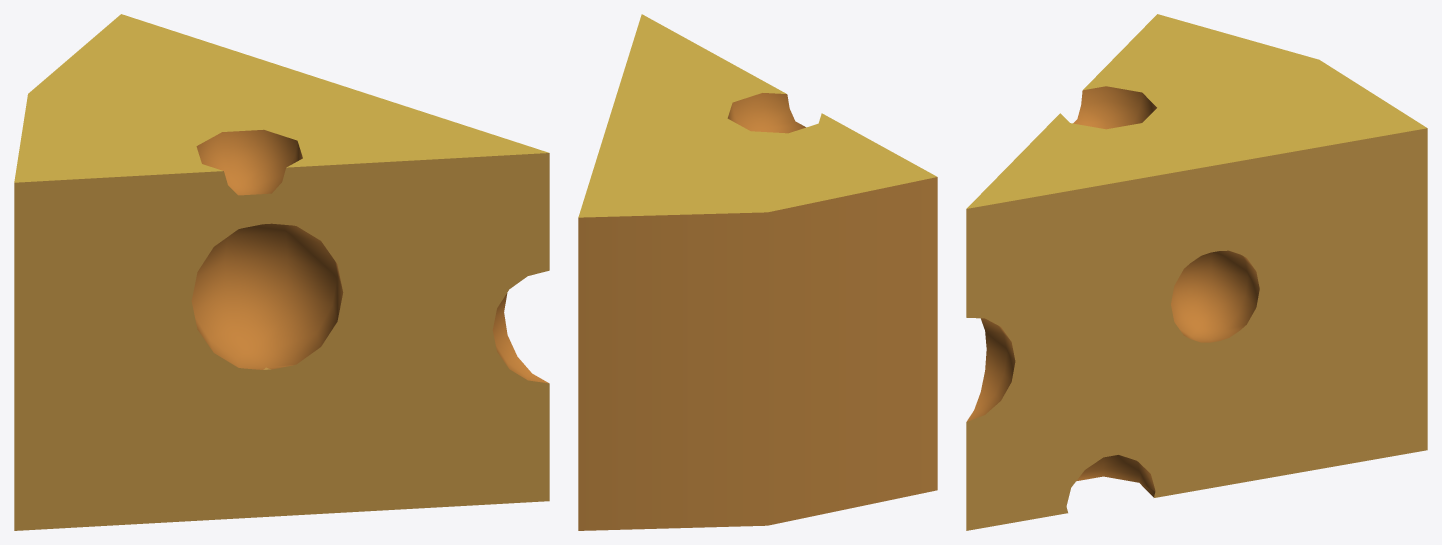
The picture shows the model from 3 angles, left to right: view 1: azimuth 30°, elevation 25°; view 2: azimuth 150°, elevation 25°; view 3: azimuth 270°, elevation 25°; orthographic projection. The views are drawn at different scales.
Visible parts, largest first — view 1: alt1.006; view 2: alt1.006; view 3: alt1.006.
Part boxes in pixels (left/top/right/bottom): alt1.006: left=14, top=14, right=549, bottom=530; alt1.006: left=578, top=14, right=937, bottom=530; alt1.006: left=966, top=14, right=1427, bottom=530.
Bounding box in the file's own units: 0.5 × 0.385 × 0.5.
